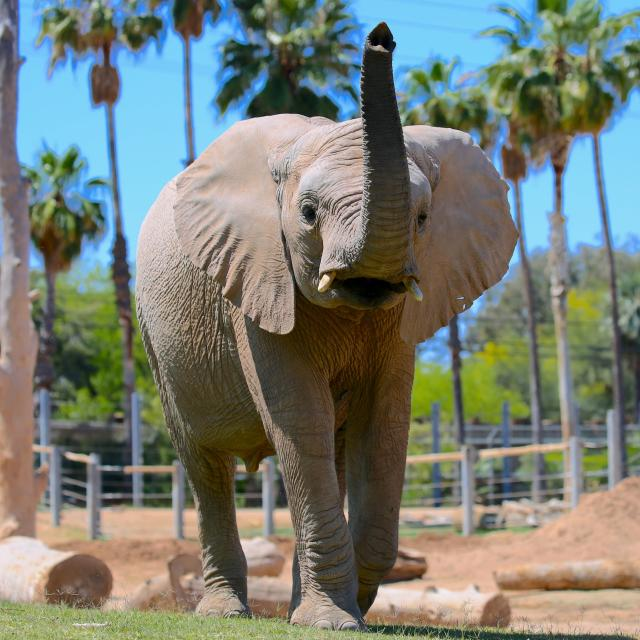Elephant: (124, 18, 538, 635)
